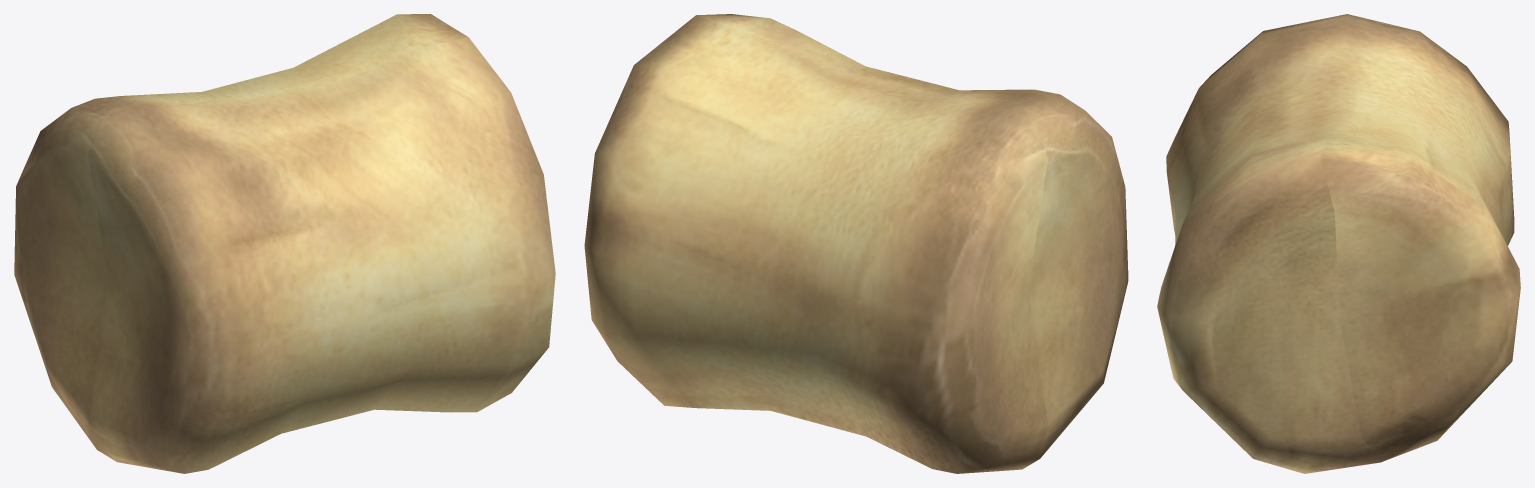
The model's file is bone_03.FBX.
The picture shows the model from 3 angles, left to right: view 1: azimuth 30°, elevation 25°; view 2: azimuth 150°, elevation 25°; view 3: azimuth 270°, elevation 25°; orthographic projection. The views are drawn at different scales.
Visible parts, largest first — view 1: bone_03; view 2: bone_03; view 3: bone_03.
Part boxes in pixels (bbox=[...]): bone_03: bbox=[14, 14, 555, 473]; bone_03: bbox=[584, 14, 1128, 473]; bone_03: bbox=[1157, 14, 1520, 473].
Size of the model in its own units: 17.39 by 15.56 by 15.73.
